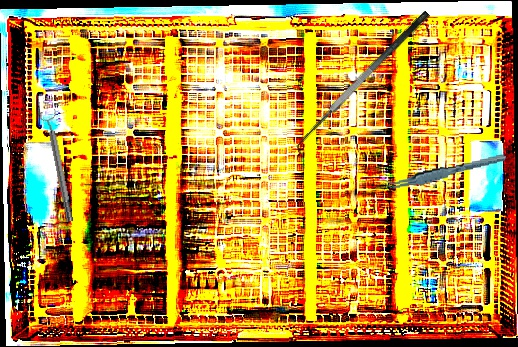Fixation Ring: (38, 108, 79, 224)
Spatula Surgical: (287, 9, 442, 159)
Tissue Forceps: (380, 153, 508, 191)
